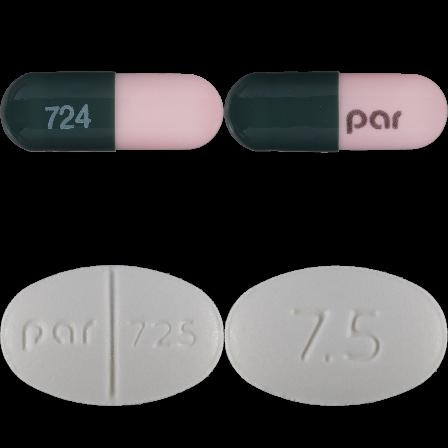49884-724: (0, 0, 224, 224)
